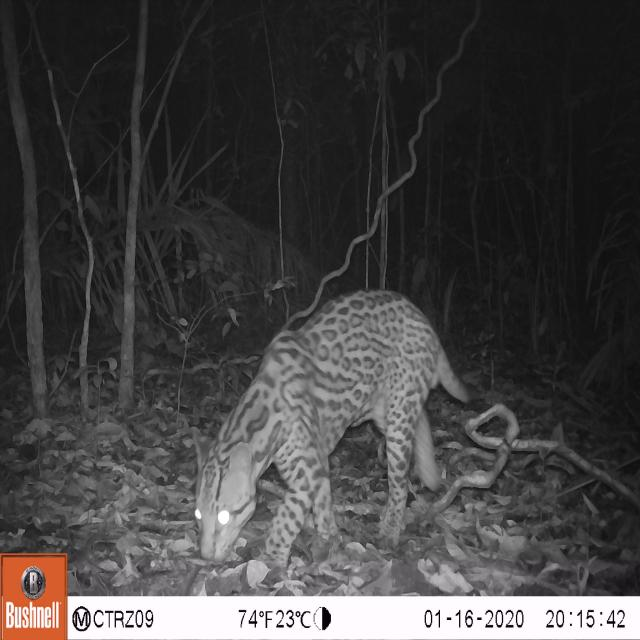Ocelote: (186, 279, 478, 589)
